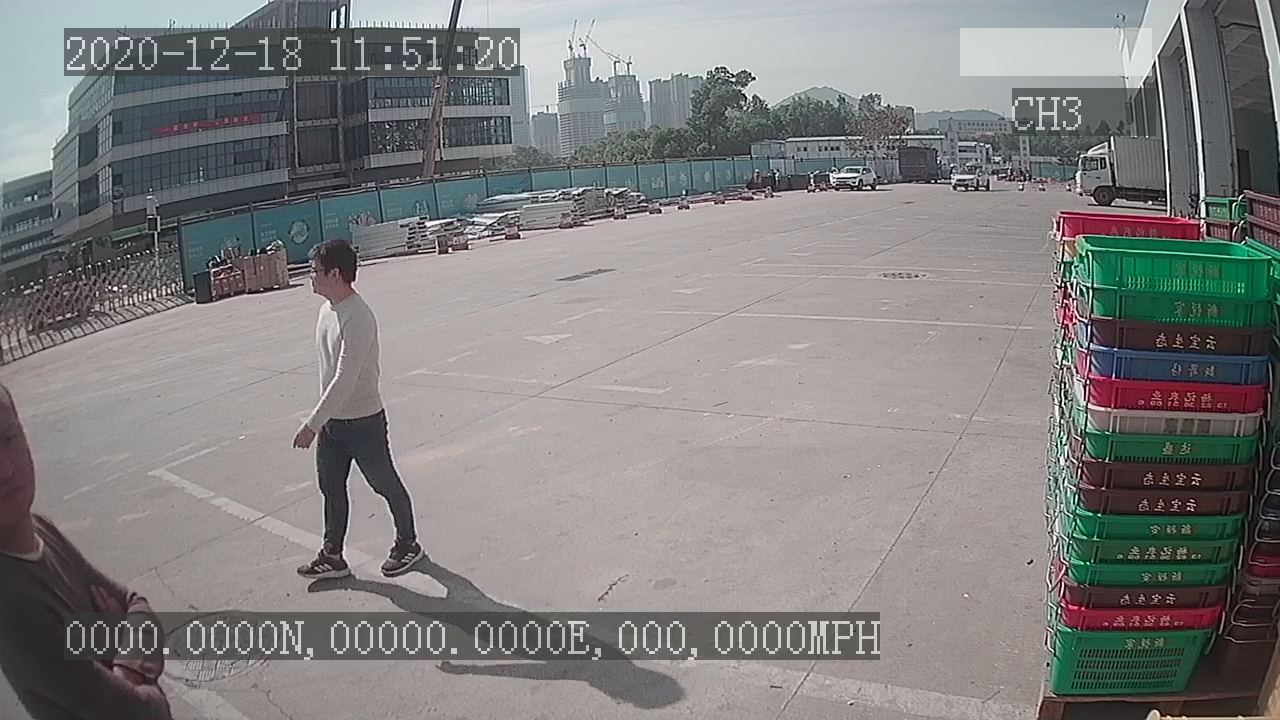person: (283, 235, 427, 583)
